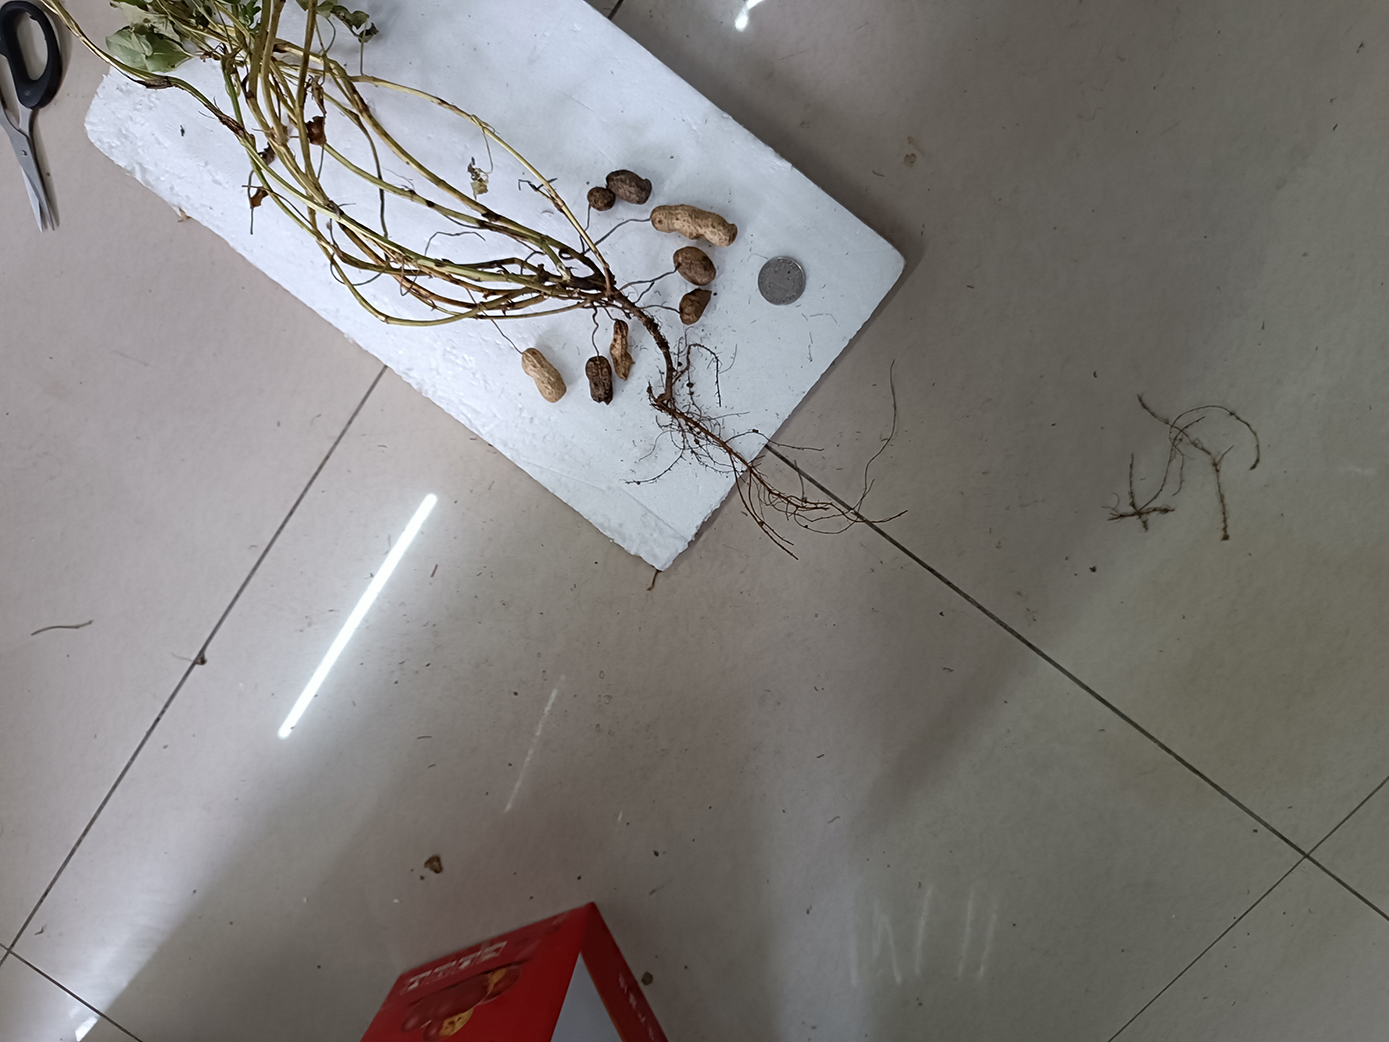h: (650, 202, 738, 246), (521, 349, 568, 402)
l: (605, 169, 653, 205), (609, 320, 636, 381), (672, 247, 716, 285), (584, 355, 614, 404), (679, 289, 711, 326), (587, 186, 617, 210)
